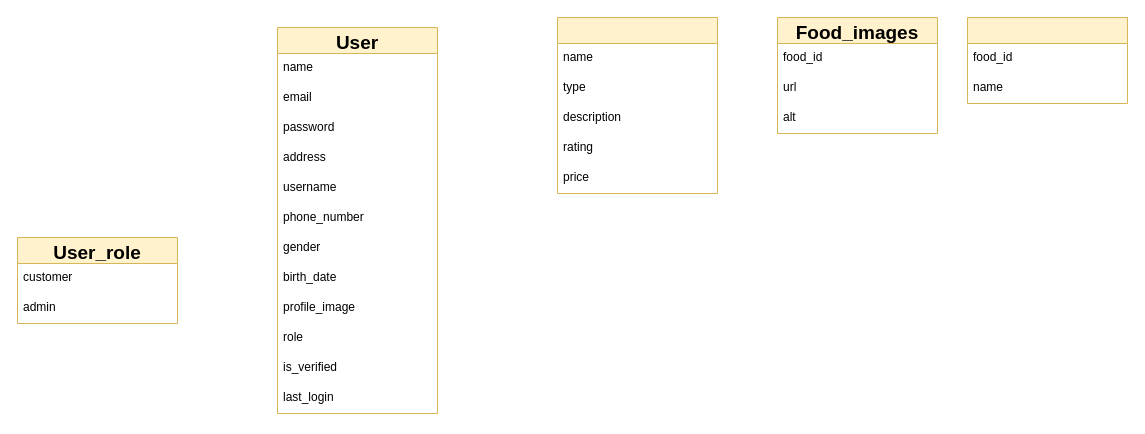
Some shapes in this 1145 by 434 pixel diagram are drawn without their labels. The box of each missing label's shape, as (x1, y1, x2, y2) in pixels:
Food: (556, 16, 718, 194)
Food_ingredients: (966, 16, 1128, 104)
